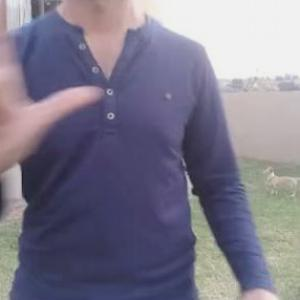land_hand: (0, 0, 109, 181)
